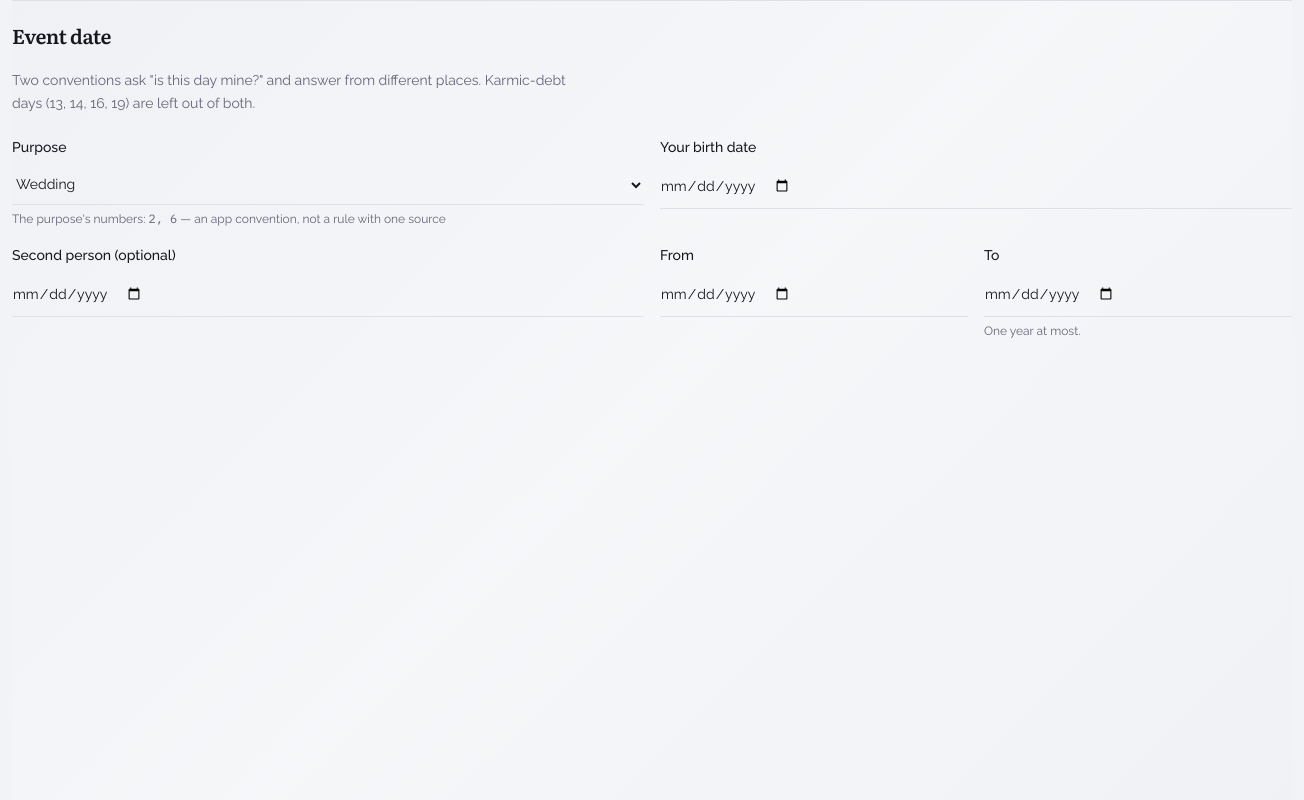
uneltele cu mai multe școli › data evenimentului: două topuri
Type "1990-01-01" into the date field labelled "Your birth date" at x=976, y=186, box x1=660 y1=164 x2=1292 y2=208
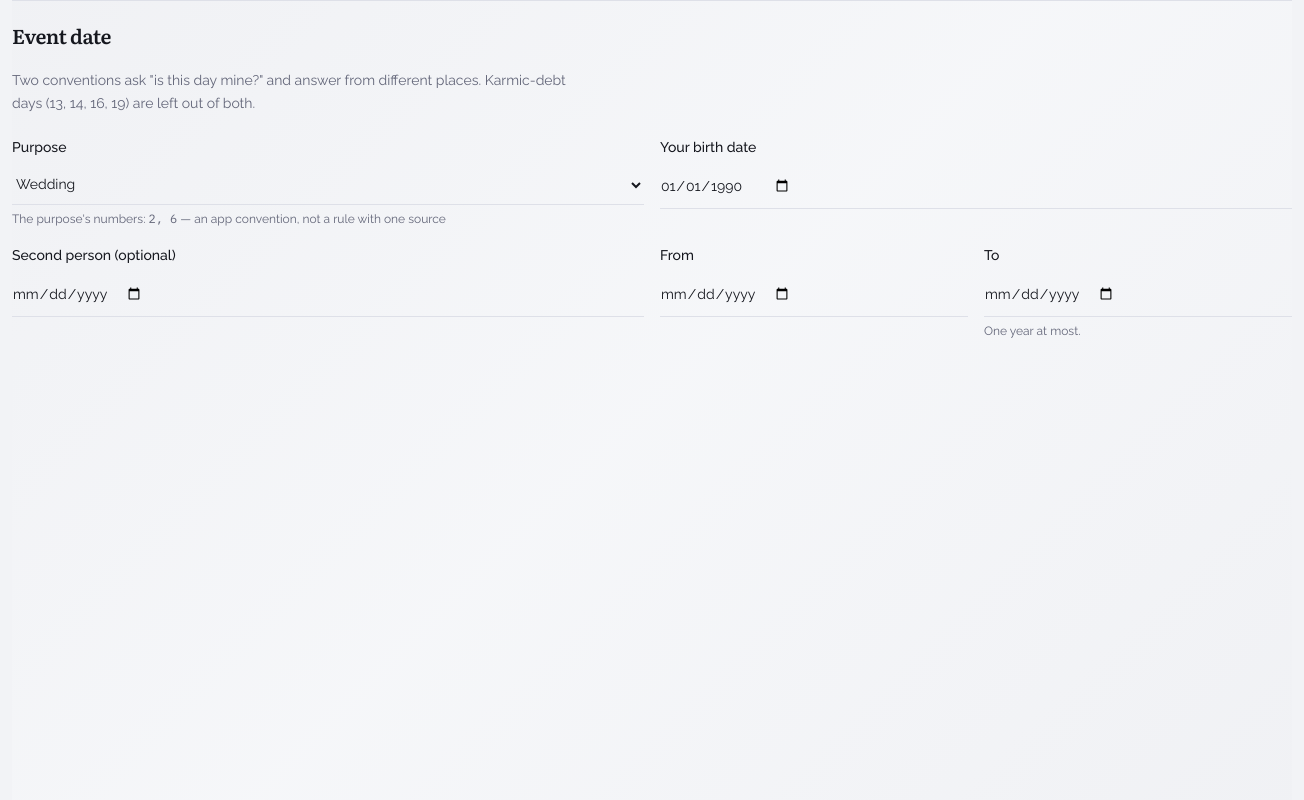
Type "2026-10-01" into the date field labelled "From" at x=814, y=294, box x1=660 y1=272 x2=968 y2=316
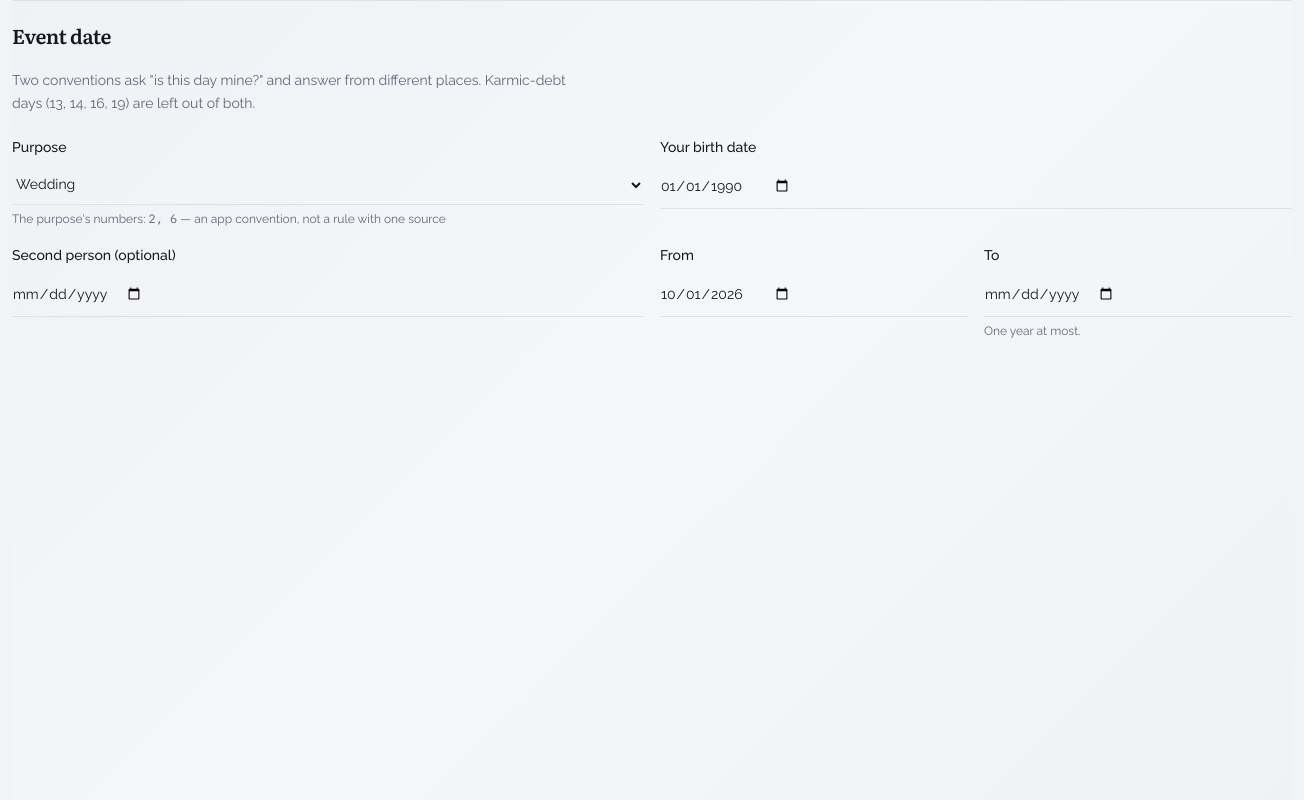
Type "2026-10-31" into the date field labelled "To" at x=1138, y=294, box x1=984 y1=272 x2=1292 y2=316
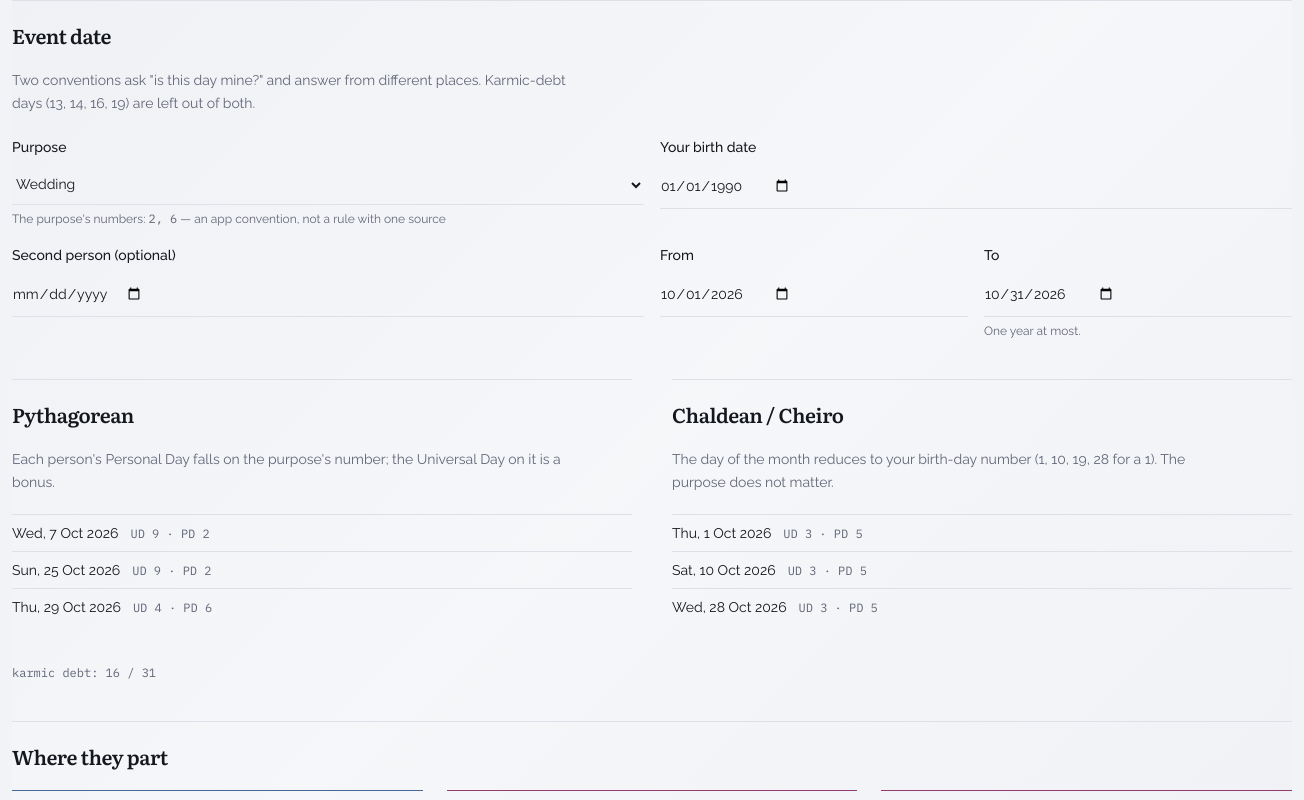
Expected: the list that starts with "Wed, 7 Oct 2026" is shown, x1=12 y1=514 x2=632 y2=624
Expected: the list that starts with "Thu, 1 Oct 2026" is shown, x1=672 y1=514 x2=1292 y2=624
